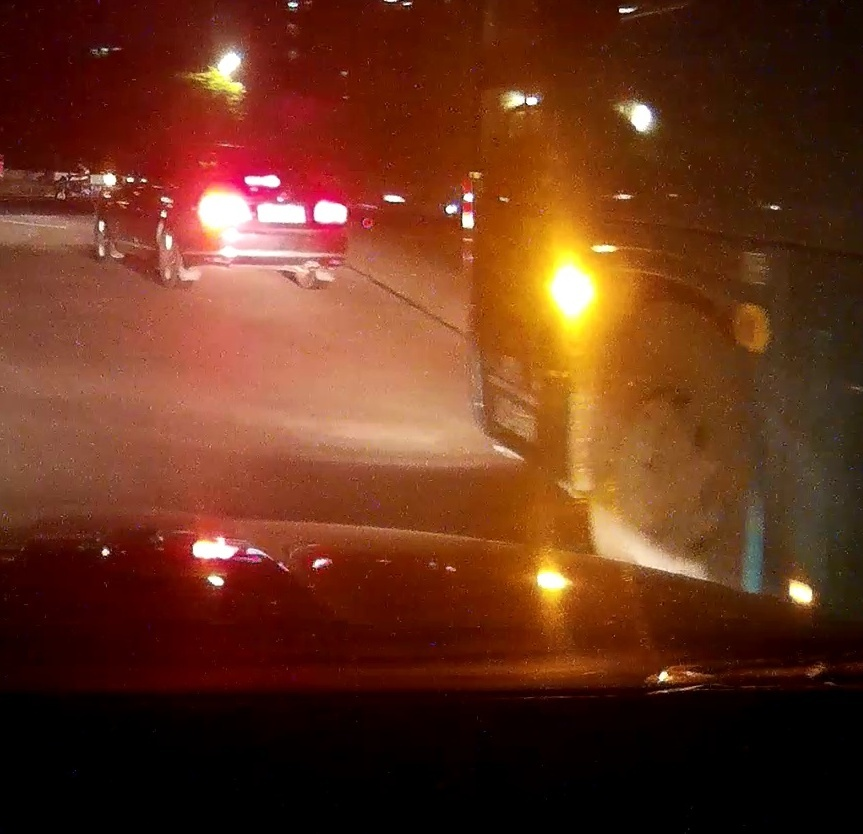L_light: (196, 187, 245, 234)
R_light: (313, 200, 348, 225)
T_light: (244, 175, 281, 187)
night-brake: (184, 146, 349, 290)
